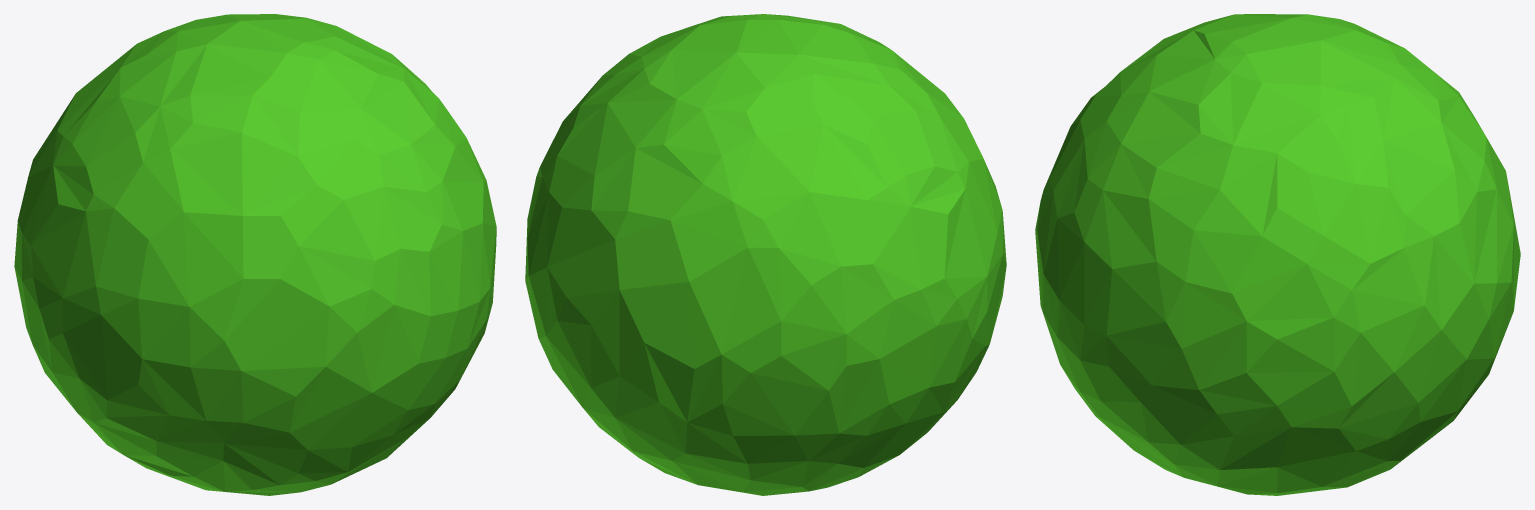
3 renders of one model, left to right at view 1: azimuth 30°, elevation 25°; view 2: azimuth 150°, elevation 25°; view 3: azimuth 270°, elevation 25°, orthographic.
Parts seen in each view (by area): view 1: default; view 2: default; view 3: default.
Boxes of the visible parts, box(x1,y1,x2,y2) form: default: box(14, 14, 496, 495); default: box(525, 14, 1006, 495); default: box(1035, 14, 1520, 495).
Bounding box in the file's own units: 1 × 0.9932 × 0.9998.
